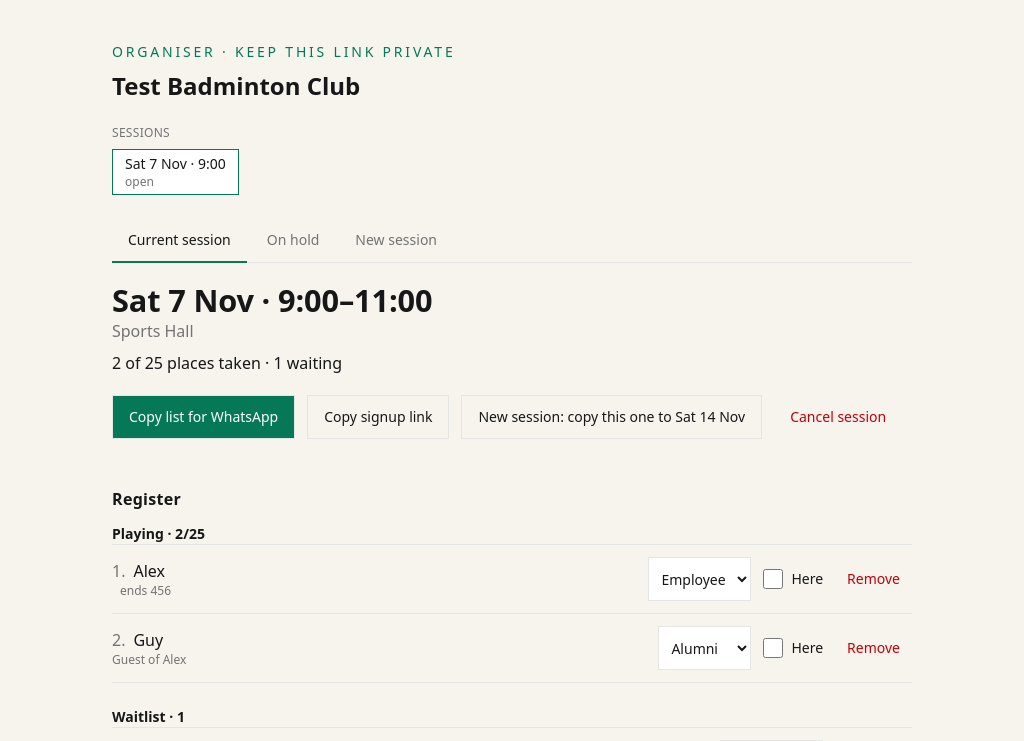
Scenario: new session by copying › tells an Organiser whose link was rotated away that it is no longer valid
Click the tab "New session".
click(396, 241)  # box [339, 219, 453, 263]
(page scrolled)
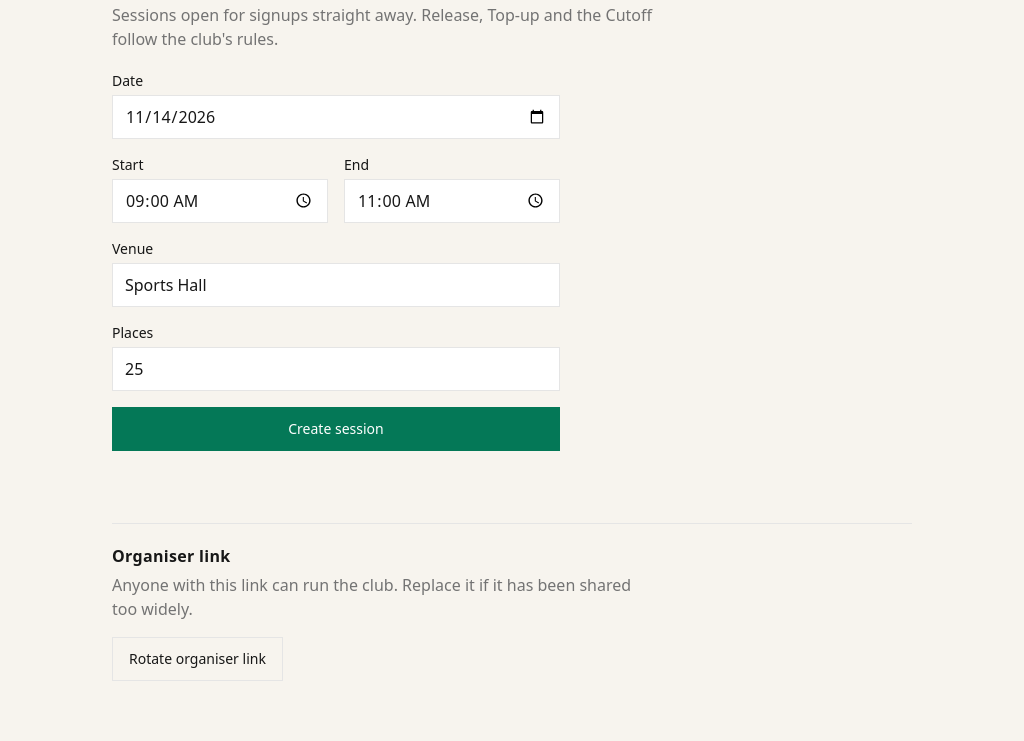
Click the button "Create session".
click(336, 429)  # box [112, 407, 560, 451]
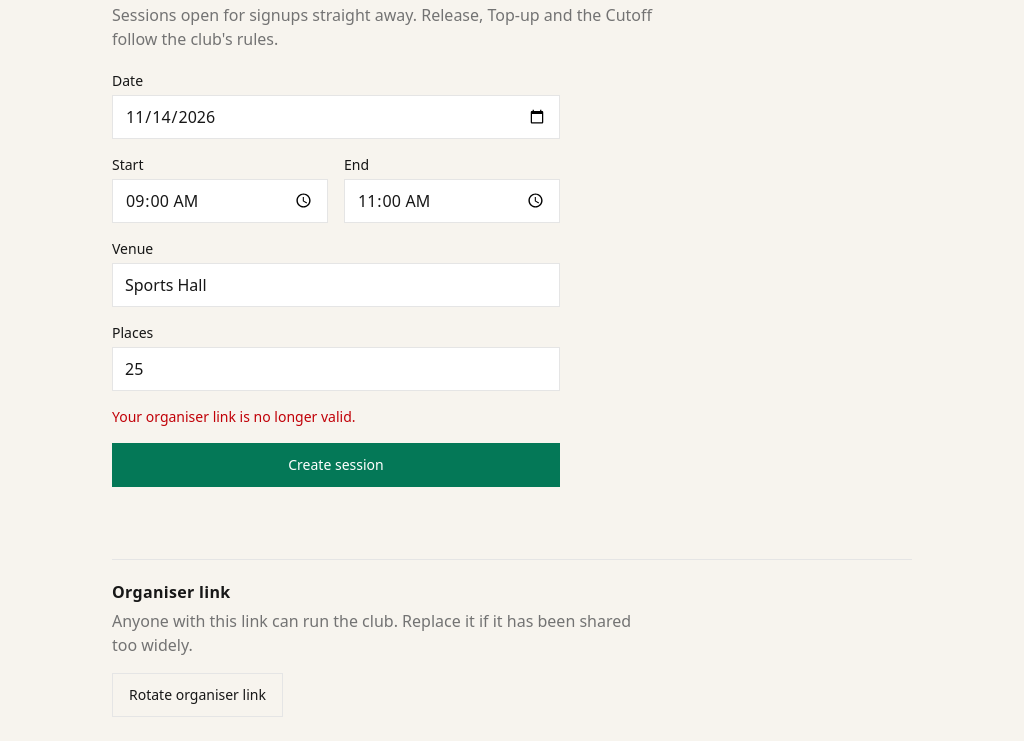
Check: the message reads "Your organiser link is no longer valid.", box [112, 407, 356, 426]
